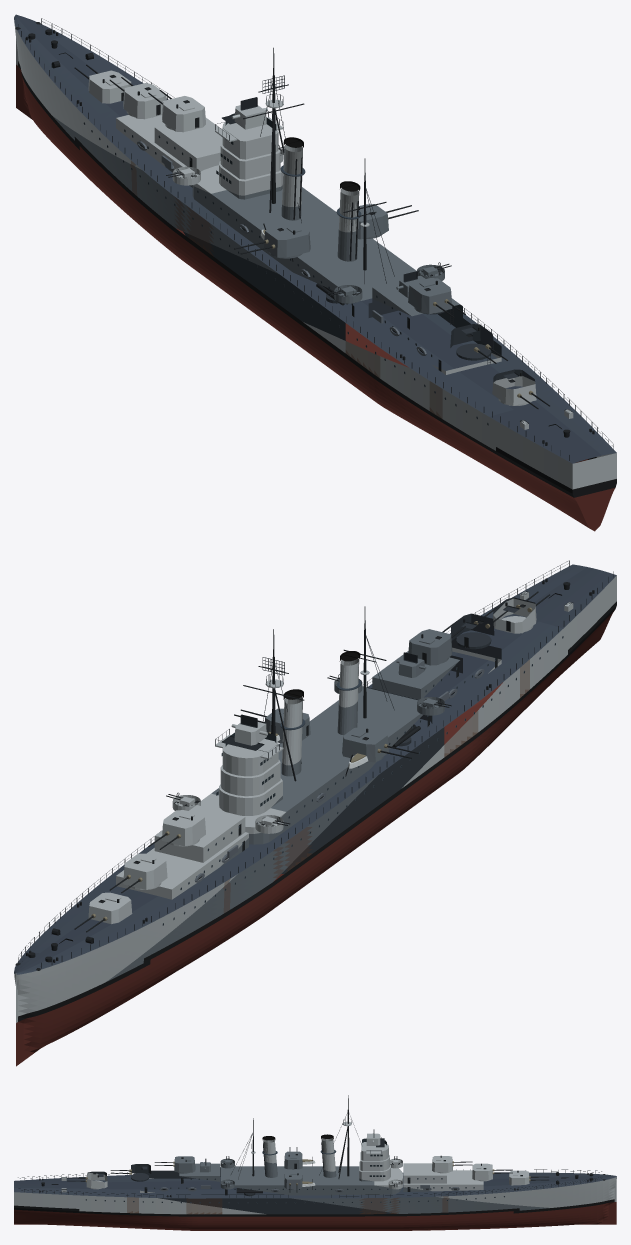
Rendered from atlanta_m22.glb.
The picture shows the model from 3 angles, top to bottom: view 1: azimuth 30°, elevation 25°; view 2: azimuth 150°, elevation 25°; view 3: azimuth 270°, elevation 25°; orthographic projection. The views are drawn at different scales.
Visible parts, largest first — view 1: Hull, Mount58, Mount56, Mount53, Mount54, Mount52, Mount55, Mount51, Mount57, Director; view 2: Hull, Mount52, Mount58, Mount53, Mount54, Mount56, Mount55, Mount51, Director; view 3: Hull, Mount52, Mount54, Mount53, Mount56, Mount51, Mount55, Mount58, Mount57.
Part boxes in pixels (<box>): Hull: <box>14,14,616,531</box>; Mount58: <box>234,222,310,258</box>; Mount56: <box>408,278,465,317</box>; Mount53: <box>148,90,205,132</box>; Mount54: <box>492,369,549,409</box>; Mount52: <box>109,77,166,119</box>; Mount55: <box>450,324,507,363</box>; Mount51: <box>74,64,131,103</box>; Mount57: <box>358,204,418,239</box>; Director: <box>231,97,267,129</box>; Hull: <box>14,560,616,1066</box>; Mount52: <box>109,853,167,893</box>; Mount58: <box>342,727,418,762</box>; Mount53: <box>148,810,205,849</box>; Mount54: <box>493,591,549,633</box>; Mount56: <box>408,623,465,665</box>; Mount55: <box>450,608,507,649</box>; Mount51: <box>74,892,132,932</box>; Director: <box>231,714,267,745</box>; Hull: <box>14,1095,616,1230</box>; Mount52: <box>472,1163,512,1181</box>; Mount54: <box>67,1171,107,1189</box>; Mount53: <box>432,1155,472,1173</box>; Mount56: <box>154,1156,195,1173</box>; Mount51: <box>509,1170,548,1185</box>; Mount55: <box>110,1164,151,1181</box>; Mount58: <box>284,1147,302,1169</box>; Mount57: <box>284,1171,302,1192</box>.
Size of the model in its own units: 29.2 by 39.1 by 165.
